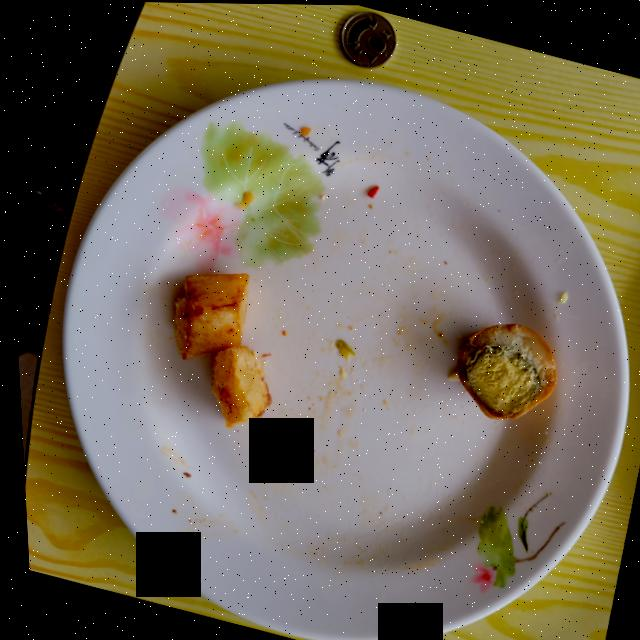coin: (339, 10, 394, 67)
fried potato: (169, 272, 266, 428)
soy egg: (452, 322, 551, 418)
